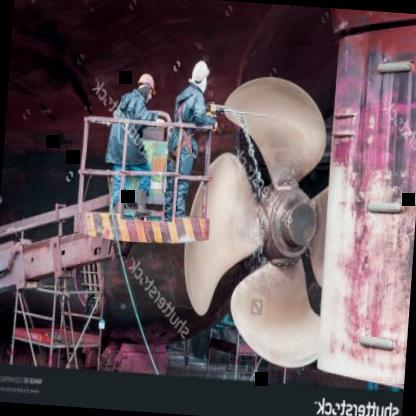helmet: (187, 54, 213, 94), (132, 70, 160, 105)
